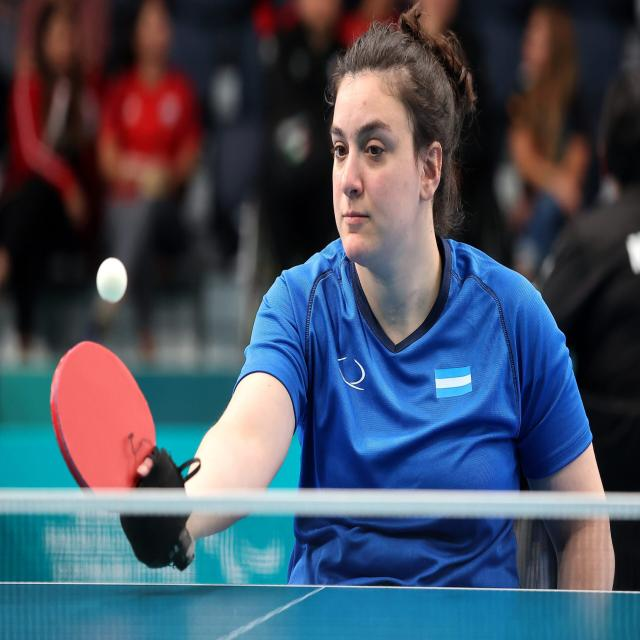TT Racket: (1, 488, 640, 640), (18, 298, 171, 518)
TT Table: (0, 579, 640, 639)
